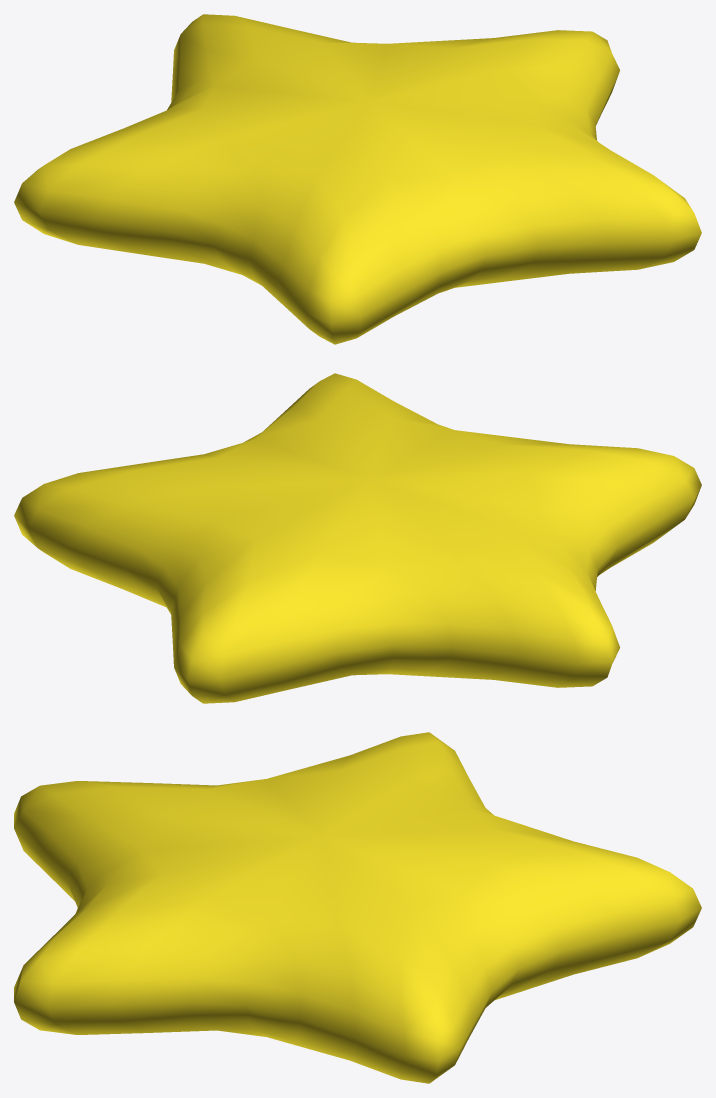
Rendered from star.fbx.
3 renders of one model, top to bottom at view 1: azimuth 30°, elevation 25°; view 2: azimuth 150°, elevation 25°; view 3: azimuth 270°, elevation 25°, orthographic. The views are drawn at different scales.
Visible parts, largest first — view 1: Circle; view 2: Circle; view 3: Circle.
Part boxes in pixels (x1,y1,x2,y2): Circle: (14,14,701,344); Circle: (14,373,701,703); Circle: (14,732,701,1083).
Bounding box in the file's own units: 162 × 35.38 × 154.
1 material, 1 textured.
